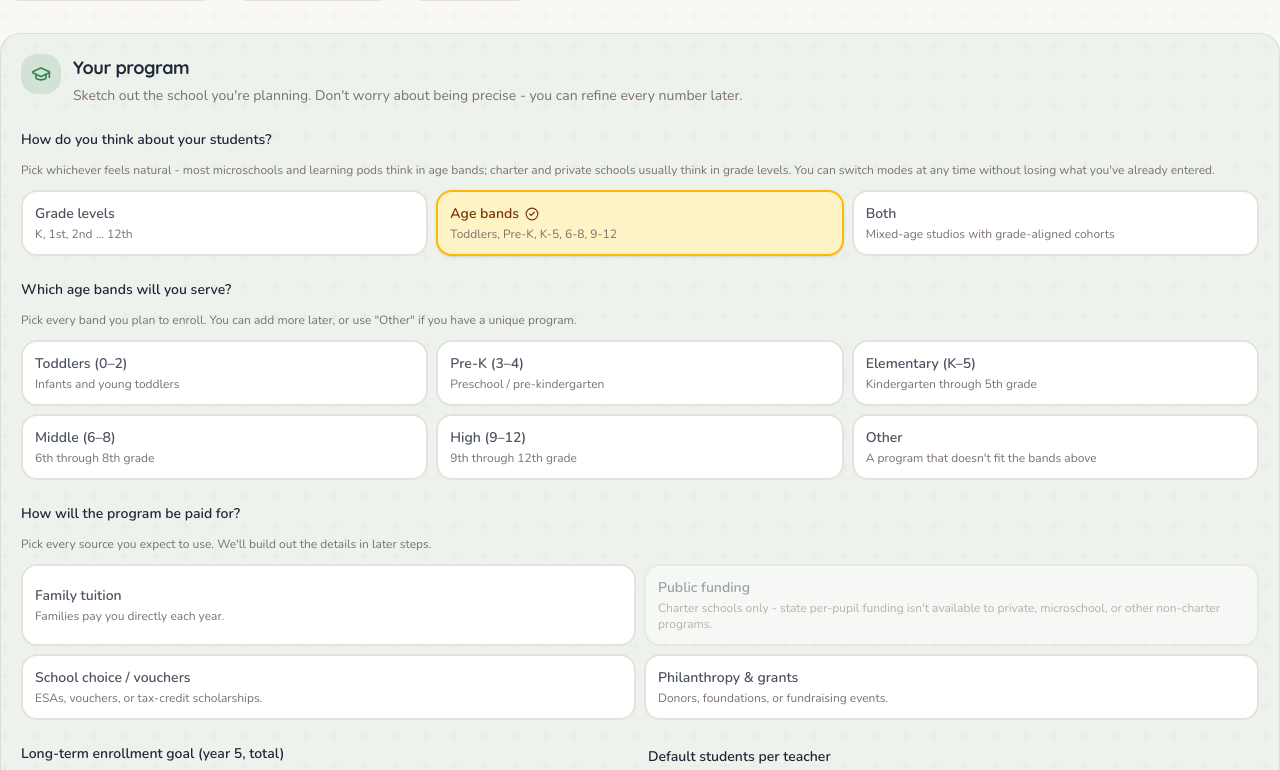
Scenario: grade band persistence across schoolType changes › turning a band off and back on preserves the previously entered value
(page scrolled)
Click the button with test id "story-grade-band-k5".
click(921, 363)  # box left=852, top=340, right=1259, bottom=406
(page scrolled)
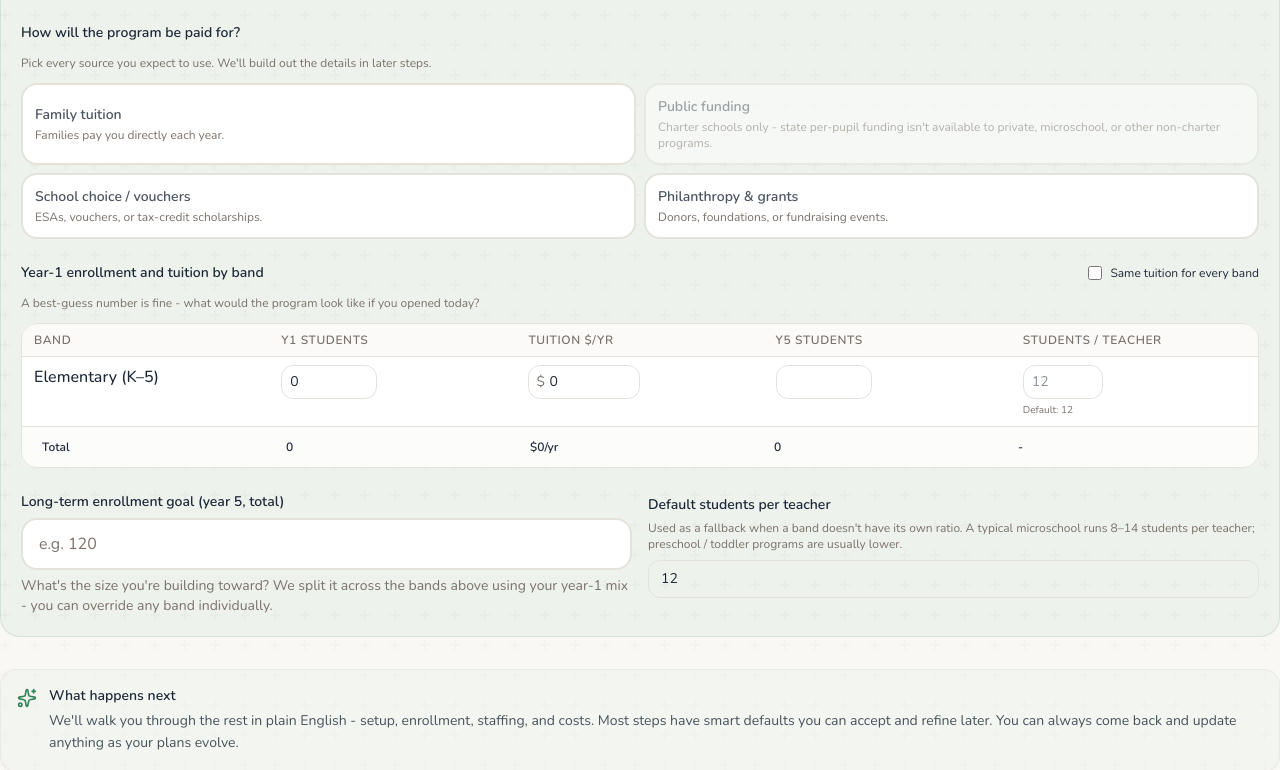
Replace the text in the number field with test id "story-band-year1-k5" with "9" at (329, 382), box left=281, top=364, right=377, bottom=398
(page scrolled)
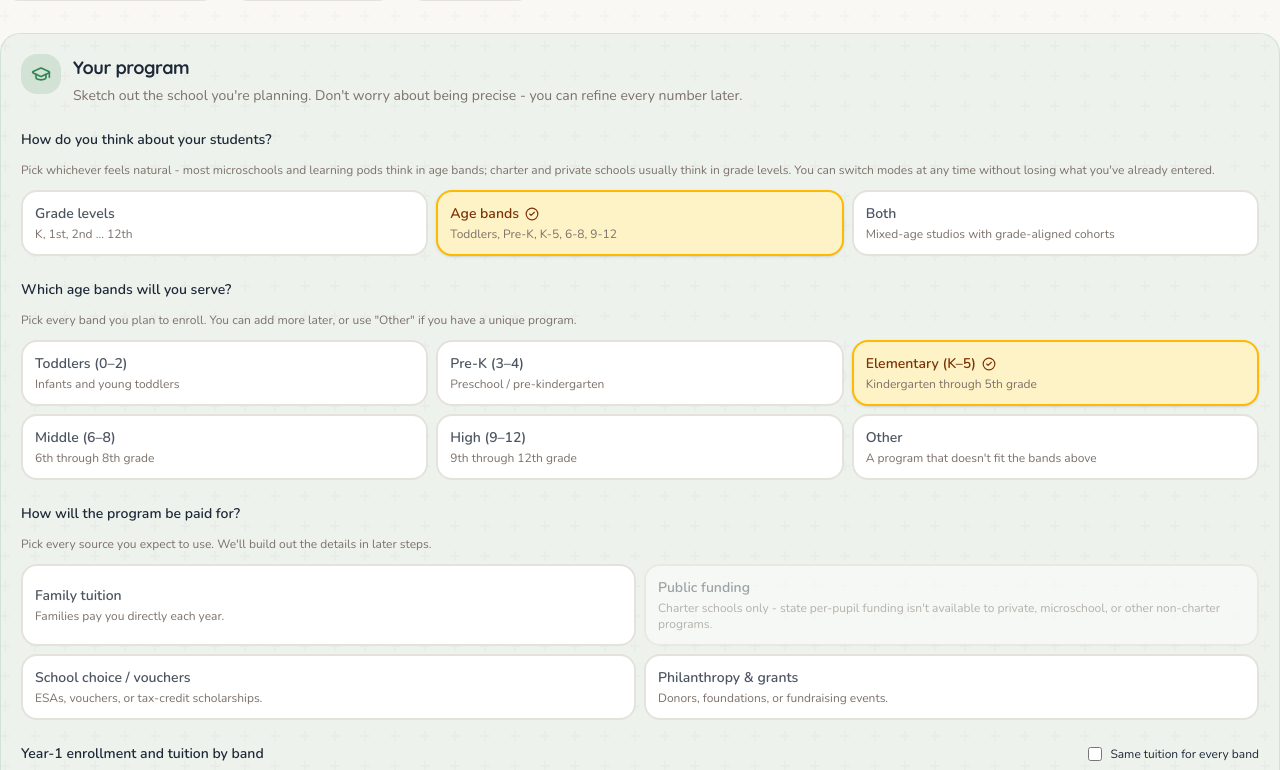
Click the button with test id "story-grade-band-k5".
click(921, 363)  # box left=852, top=340, right=1259, bottom=406
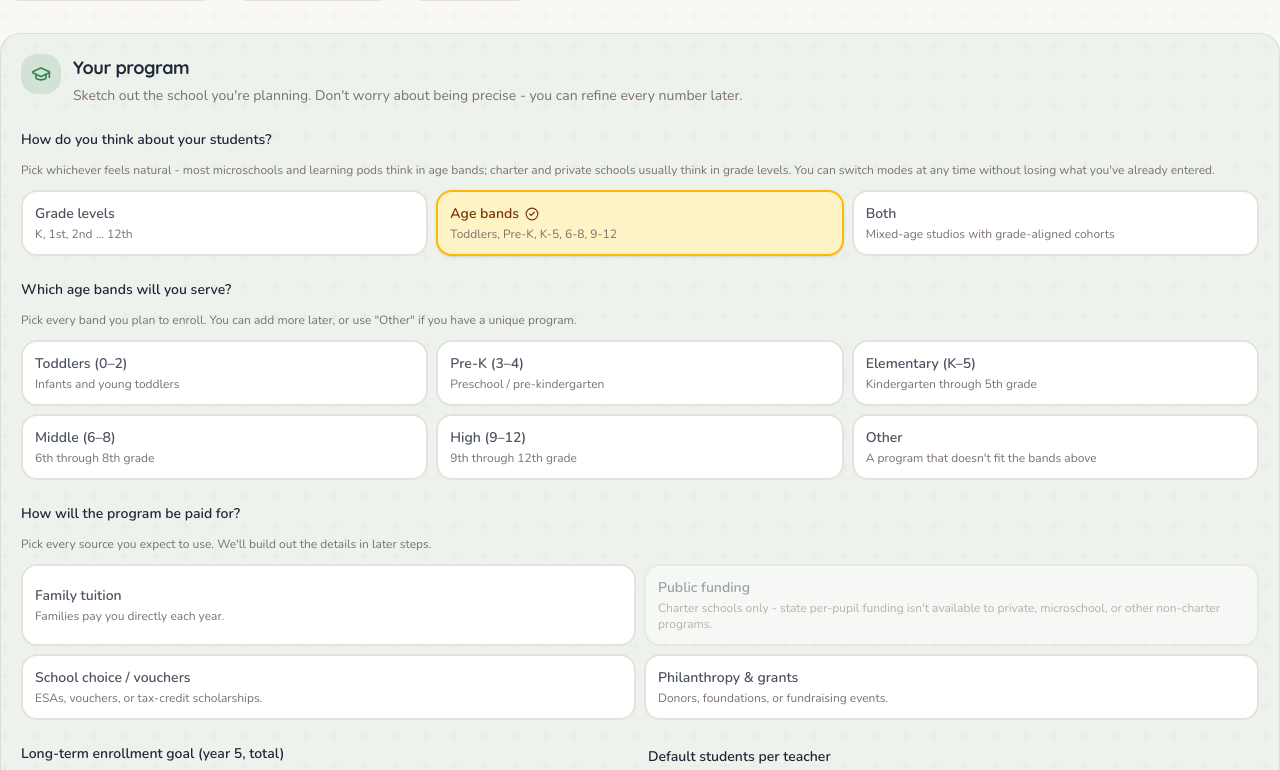
Click the button with test id "story-grade-band-k5".
click(921, 363)  # box left=852, top=340, right=1259, bottom=406
(page scrolled)
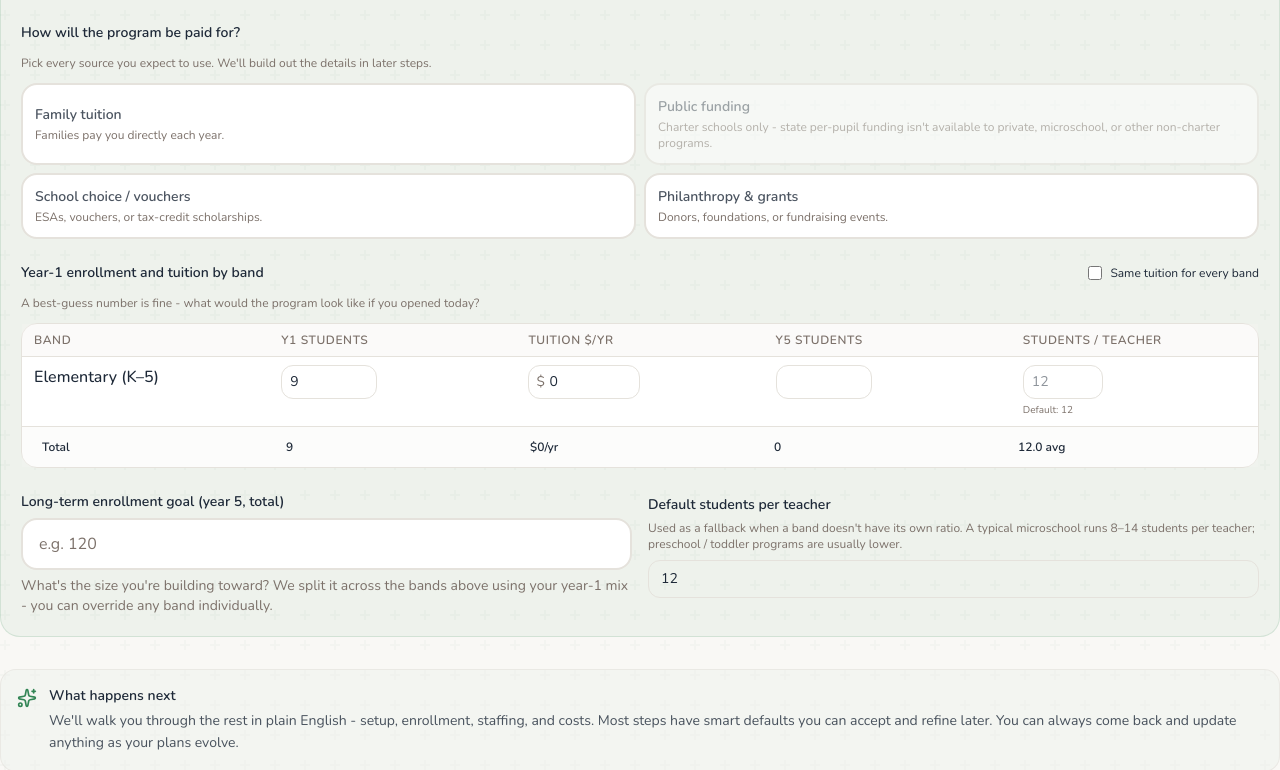
Result: the number field with test id "story-band-year1-k5" holds "9" at left=281, top=364, right=377, bottom=398
